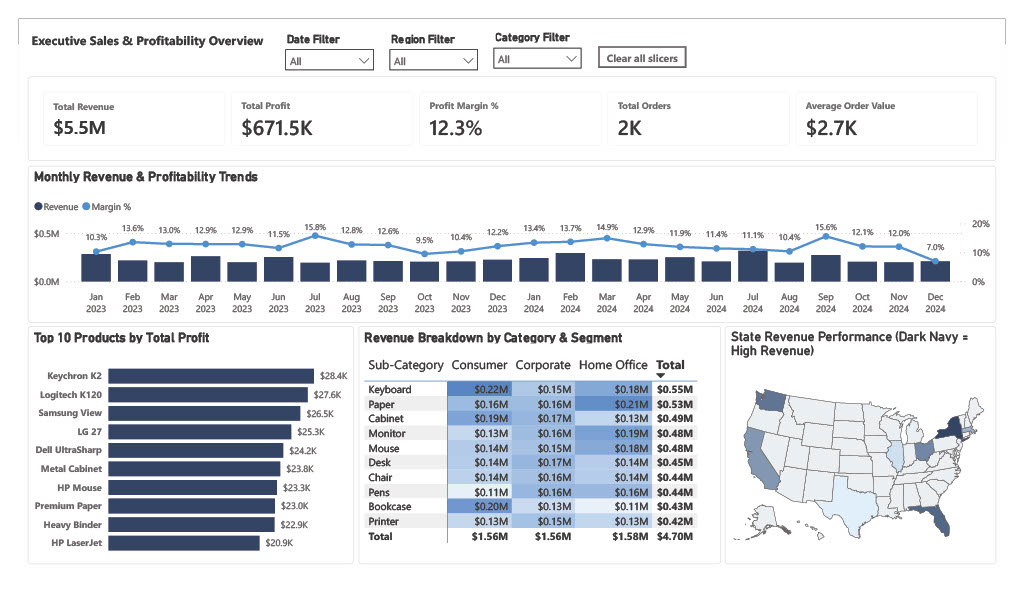

The page's visual inventory and layout, read from the dashboard file:
{"tool":"powerbi","page":{"name":"Page 1","canvas":[1280,720],"ordinal":0},"visuals":[{"type":"lineStackedColumnComboChart","title":"Monthly Revenue & Profitability Trends","fields":{"Y":["Sum(sales_data_cleaned.Sales)"],"Y2":["sales_data_cleaned.Profit Margin %"],"Category":["sales_data_cleaned.Month Short"]},"box":[12,191,1256,204],"z":1000},{"type":"pivotTable","title":"Revenue Breakdown by Category & Segment","fields":{"Rows":["sales_data_cleaned.Sub_Category"],"Values":["Sum(sales_data_cleaned.Sales)"],"Columns":["sales_data_cleaned.Segment"]},"box":[440.9,399.1,470,309.1],"z":2000},{"type":"slicer","fields":{"Values":["sales_data_cleaned.Region"]},"box":[471,11.9,134.7,62.8],"z":3000},{"type":"slicer","fields":{"Values":["sales_data_cleaned.Category"]},"box":[605.7,9.5,134.7,62.8],"z":4000},{"type":"textbox","box":[11.9,11.9,324.1,35.9],"z":5000},{"type":"slicer","fields":{"Values":["sales_data_cleaned.Order_Date"]},"box":[336.2,11.9,134.7,62.8],"z":6000},{"type":"cardVisual","fields":{"Data":["sales_data_cleaned.Total Revenue","sales_data_cleaned.Total Profit","sales_data_cleaned.Profit Margin %","sales_data_cleaned.Total Orders","sales_data_cleaned.Average Order Value"]},"box":[12,74.7,1256,110],"z":7000},{"type":"barChart","title":"Top 10 Products by Total Profit","fields":{"Category":["sales_data_cleaned.Product_Name"],"Y":["Sum(sales_data_cleaned.Profit)"]},"box":[12,399.3,423.3,308.7],"z":8000},{"type":"actionButton","box":[751.9,36.2,114.4,28.1],"z":9000},{"type":"shapeMap","title":"State Revenue Performance (Dark Navy = High Revenue)","fields":{"Category":["sales_data_cleaned.State"],"Value":["sales_data_cleaned.Total Revenue"]},"box":[916.4,399.1,351.8,309.1],"z":10000}]}

Visuals, with their boxes in screenshot pixels (x1, y1, x2, y2), scaled from the page's 1280x720 canvas onto the 1024x592 screenshot:
"Monthly Revenue & Profitability Trends" lineStackedColumnComboChart: select_region(10, 157, 1014, 325)
"Revenue Breakdown by Category & Segment" pivotTable: select_region(353, 328, 729, 582)
slicer - sales_data_cleaned.Region: select_region(377, 10, 485, 61)
slicer - sales_data_cleaned.Category: select_region(485, 8, 592, 59)
textbox: select_region(10, 10, 269, 39)
slicer - sales_data_cleaned.Order_Date: select_region(269, 10, 377, 61)
cardVisual - sales_data_cleaned.Total Revenue x sales_data_cleaned.Total Profit: select_region(10, 61, 1014, 152)
"Top 10 Products by Total Profit" barChart: select_region(10, 328, 348, 582)
actionButton: select_region(602, 30, 693, 53)
"State Revenue Performance (Dark Navy = High Revenue)" shapeMap: select_region(733, 328, 1015, 582)
